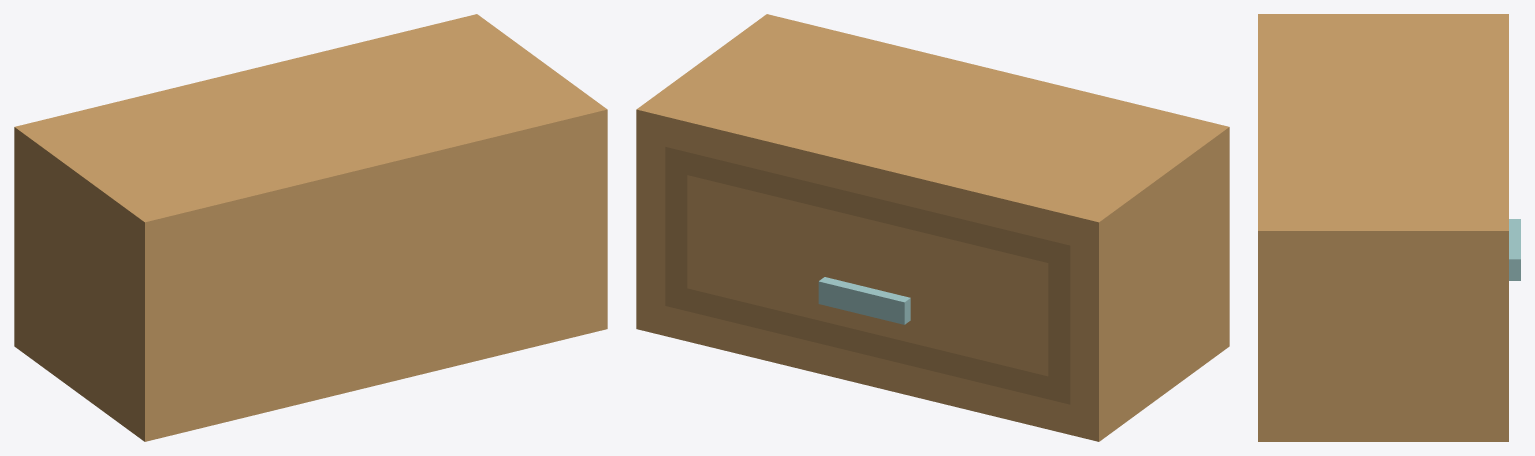
The model's file is kitchenCabinetUpperLow.glb.
The picture shows the model from 3 angles, left to right: view 1: azimuth 30°, elevation 25°; view 2: azimuth 150°, elevation 25°; view 3: azimuth 270°, elevation 25°; orthographic projection. The views are drawn at different scales.
Size of the model in its own units: 4.3 by 1.95 by 2.2.
